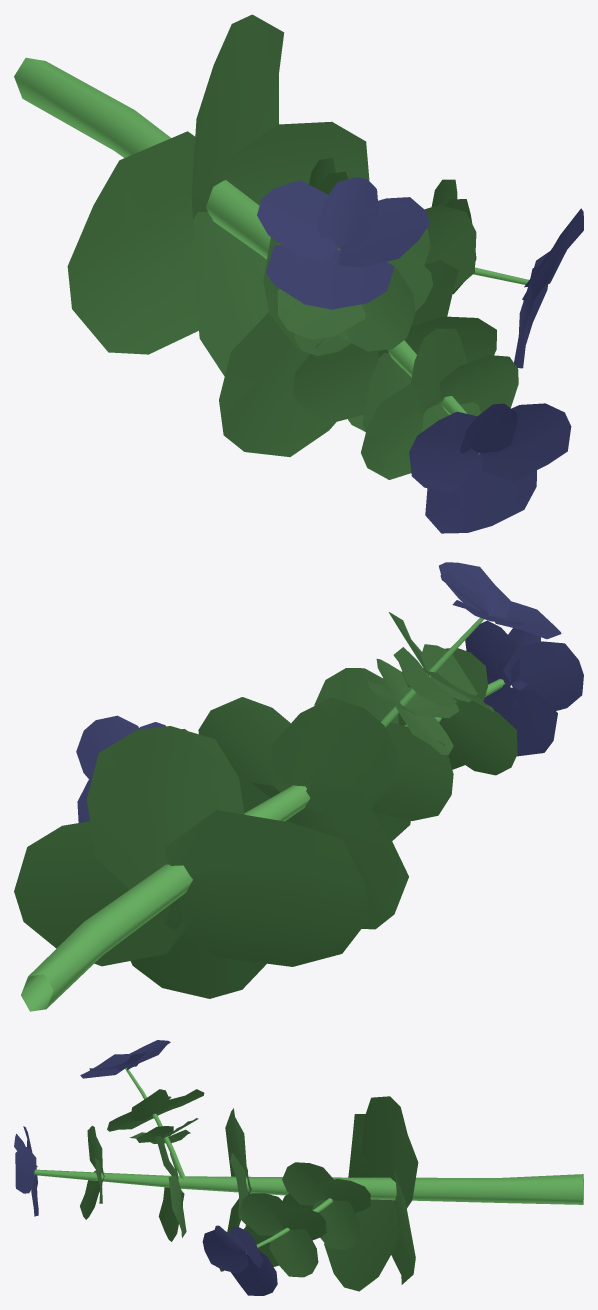
File: Ereprijs_mid.dae
3 renders of one model, top to bottom at view 1: azimuth 30°, elevation 25°; view 2: azimuth 150°, elevation 25°; view 3: azimuth 270°, elevation 25°, orthographic. The views are drawn at different scales.
Visible parts, largest first — view 1: pPlane37, pPlane38, polySurface1, pPlane21, pPlane40, pPlane39, pPlane9, pPlane41, pPlane13, pPlane16, pPlane10, pPlane33 (+17 smaller); view 2: pPlane37, pPlane38, pPlane39, pPlane22, polySurface1, pPlane21, pPlane23, pPlane41, pPlane40, pPlane33, pPlane14, pPlane13 (+13 smaller); view 3: polySurface1, pPlane40, pPlane38, pPlane8, pPlane4, pPlane2, pPlane6, pPlane39, pPlane17, pPlane18, pPlane3, pPlane7 (+19 smaller).
Boxes of the visible parts, bbox=[...] form: pPlane37: bbox=[67, 131, 198, 354]; pPlane38: bbox=[191, 14, 284, 221]; polySurface1: bbox=[14, 57, 467, 414]; pPlane21: bbox=[219, 312, 336, 456]; pPlane40: bbox=[192, 212, 268, 376]; pPlane39: bbox=[223, 121, 369, 205]; pPlane9: bbox=[266, 245, 394, 309]; pPlane41: bbox=[293, 339, 378, 421]; pPlane13: bbox=[425, 454, 536, 533]; pPlane16: bbox=[480, 403, 571, 481]; pPlane10: bbox=[257, 180, 338, 262]; pPlane33: bbox=[361, 383, 440, 479]; pPlane37: bbox=[165, 810, 367, 966]; pPlane38: bbox=[86, 726, 244, 889]; pPlane39: bbox=[14, 821, 192, 966]; pPlane22: bbox=[271, 697, 399, 807]; polySurface1: bbox=[21, 679, 504, 1011]; pPlane21: bbox=[289, 780, 408, 929]; pPlane23: bbox=[198, 697, 314, 821]; pPlane41: bbox=[371, 720, 453, 820]; pPlane40: bbox=[130, 935, 266, 998]; pPlane33: bbox=[439, 698, 517, 775]; pPlane14: bbox=[503, 641, 583, 710]; pPlane13: bbox=[483, 677, 557, 756]; polySurface1: bbox=[34, 1169, 583, 1204]; pPlane40: bbox=[324, 1177, 399, 1291]; pPlane38: bbox=[362, 1096, 418, 1208]; pPlane8: bbox=[269, 1228, 318, 1277]; pPlane4: bbox=[312, 1199, 359, 1249]; pPlane2: bbox=[282, 1162, 333, 1205]; pPlane6: bbox=[239, 1193, 288, 1235]; pPlane39: bbox=[391, 1172, 415, 1284]; pPlane17: bbox=[231, 1250, 277, 1295]; pPlane18: bbox=[202, 1230, 248, 1273]; pPlane3: bbox=[318, 1179, 370, 1212]; pPlane7: bbox=[275, 1207, 326, 1240].
Size of the model in its own units: 14.27 by 11.95 by 29.3.
